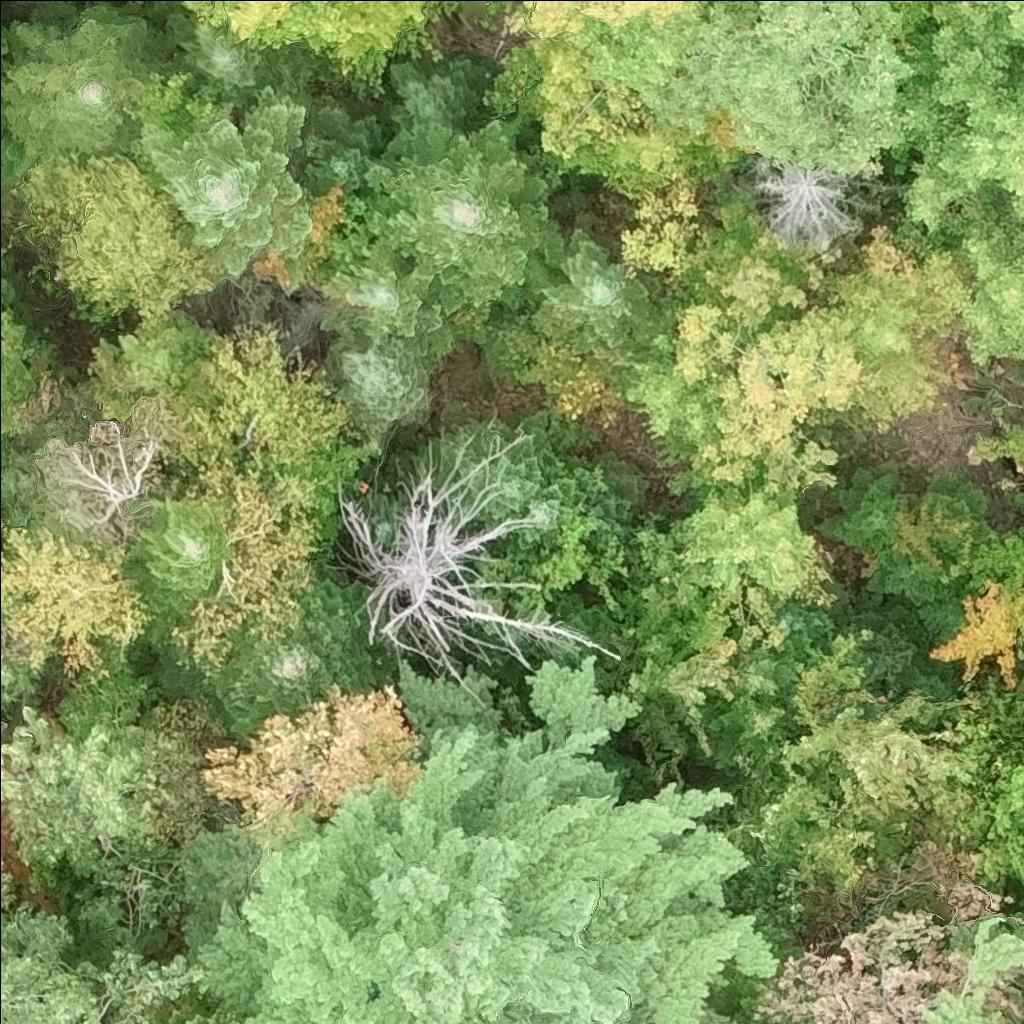crown: (188, 653, 779, 1023), (640, 208, 930, 504), (337, 448, 624, 669), (573, 0, 919, 174), (366, 121, 553, 314), (18, 148, 223, 317), (169, 464, 325, 677), (135, 93, 313, 279), (202, 684, 430, 827), (895, 0, 1023, 234), (205, 581, 380, 739), (172, 327, 348, 473), (0, 706, 158, 862), (778, 696, 976, 818), (0, 11, 152, 168), (754, 912, 964, 1023), (0, 528, 148, 680), (623, 587, 756, 754), (633, 492, 824, 604), (490, 427, 651, 542), (0, 862, 106, 1023), (120, 499, 231, 644), (325, 312, 438, 444), (529, 229, 653, 346), (572, 120, 741, 193), (918, 912, 1023, 1023), (159, 0, 264, 102), (333, 264, 453, 353), (174, 0, 362, 56), (283, 97, 380, 199), (933, 583, 1023, 692), (959, 218, 1023, 367), (331, 0, 451, 75), (95, 954, 215, 1023), (539, 519, 635, 604), (923, 473, 996, 569), (389, 59, 481, 131), (528, 0, 710, 35), (829, 469, 904, 552), (986, 762, 1023, 883), (965, 526, 1023, 595), (870, 543, 941, 598), (974, 424, 1023, 465), (888, 0, 930, 31), (0, 249, 11, 298), (0, 52, 1, 75), (1023, 494, 1023, 498)
